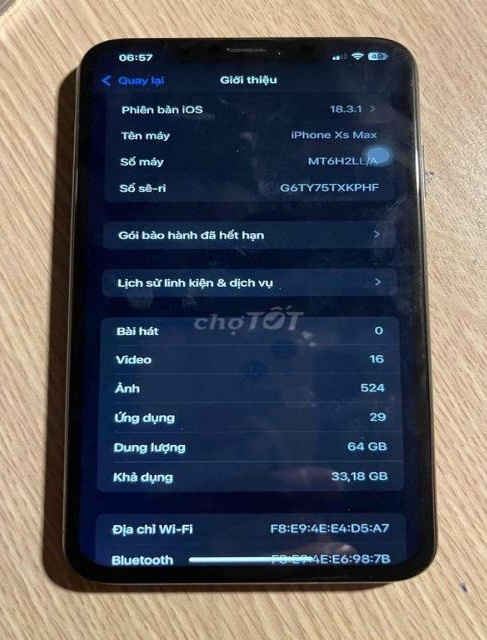scratch: (408, 328, 444, 368), (399, 64, 423, 102), (169, 40, 206, 62)
